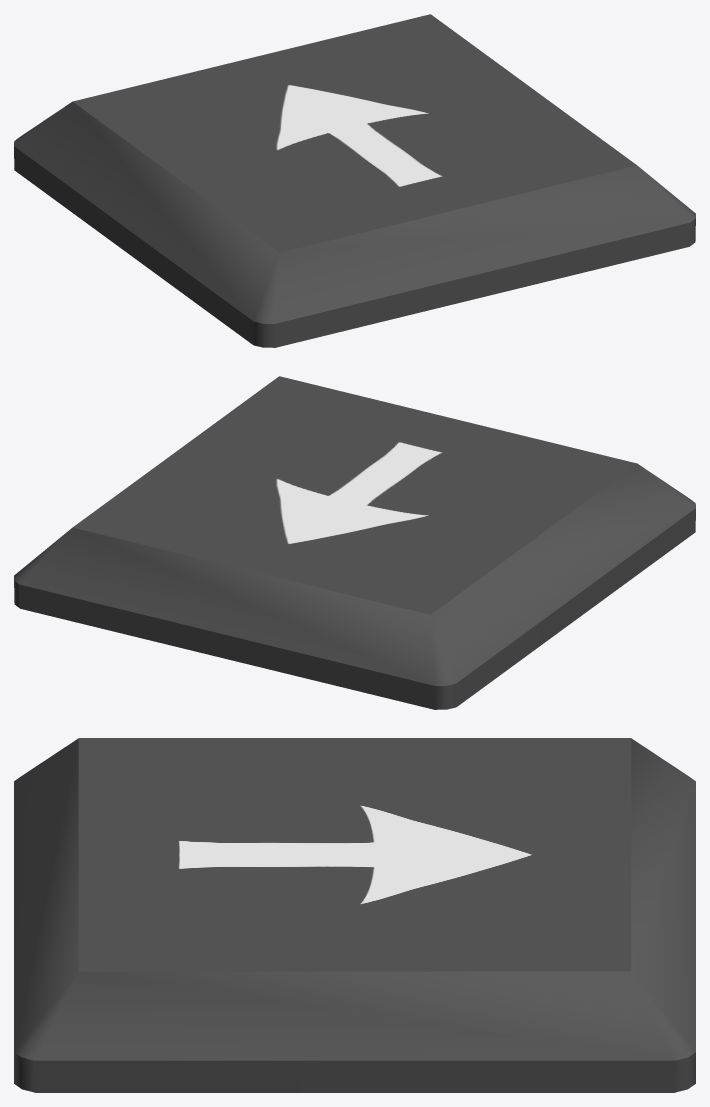
File: Arrow_button.obj
The picture shows the model from 3 angles, top to bottom: view 1: azimuth 30°, elevation 25°; view 2: azimuth 150°, elevation 25°; view 3: azimuth 270°, elevation 25°; orthographic projection. The views are drawn at different scales.
Parts seen in each view (by area): view 1: arrow_button_MDL; view 2: arrow_button_MDL; view 3: arrow_button_MDL.
Part boxes in pixels (x1=…): arrow_button_MDL: x1=14, y1=14, x2=695, y2=347; arrow_button_MDL: x1=14, y1=376, x2=695, y2=709; arrow_button_MDL: x1=14, y1=738, x2=695, y2=1092.
Bounding box in the file's own units: 13 × 1.98 × 13.
1 material, 1 textured.
